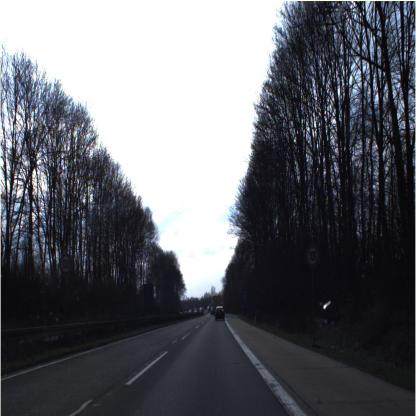speed limit 100: (305, 244, 320, 268), (59, 252, 73, 276)
